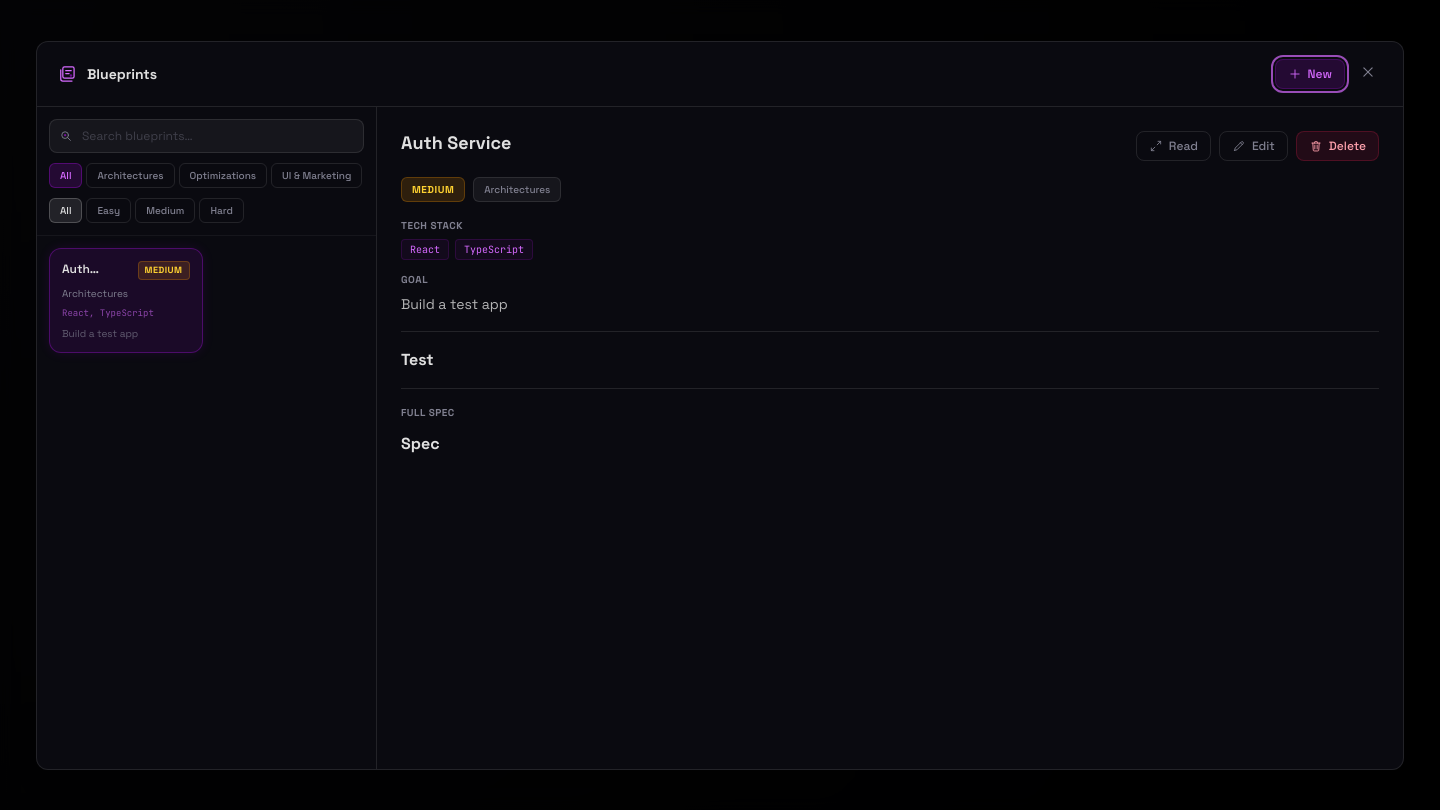
Test case: BlueprintsGallery › deleting a blueprint › keeps the blueprint when the delete is declined
The width and height of the screenshot is (1440, 810).
Click the button "Delete" at coordinates (1337, 146), box [1296,130,1379,160]
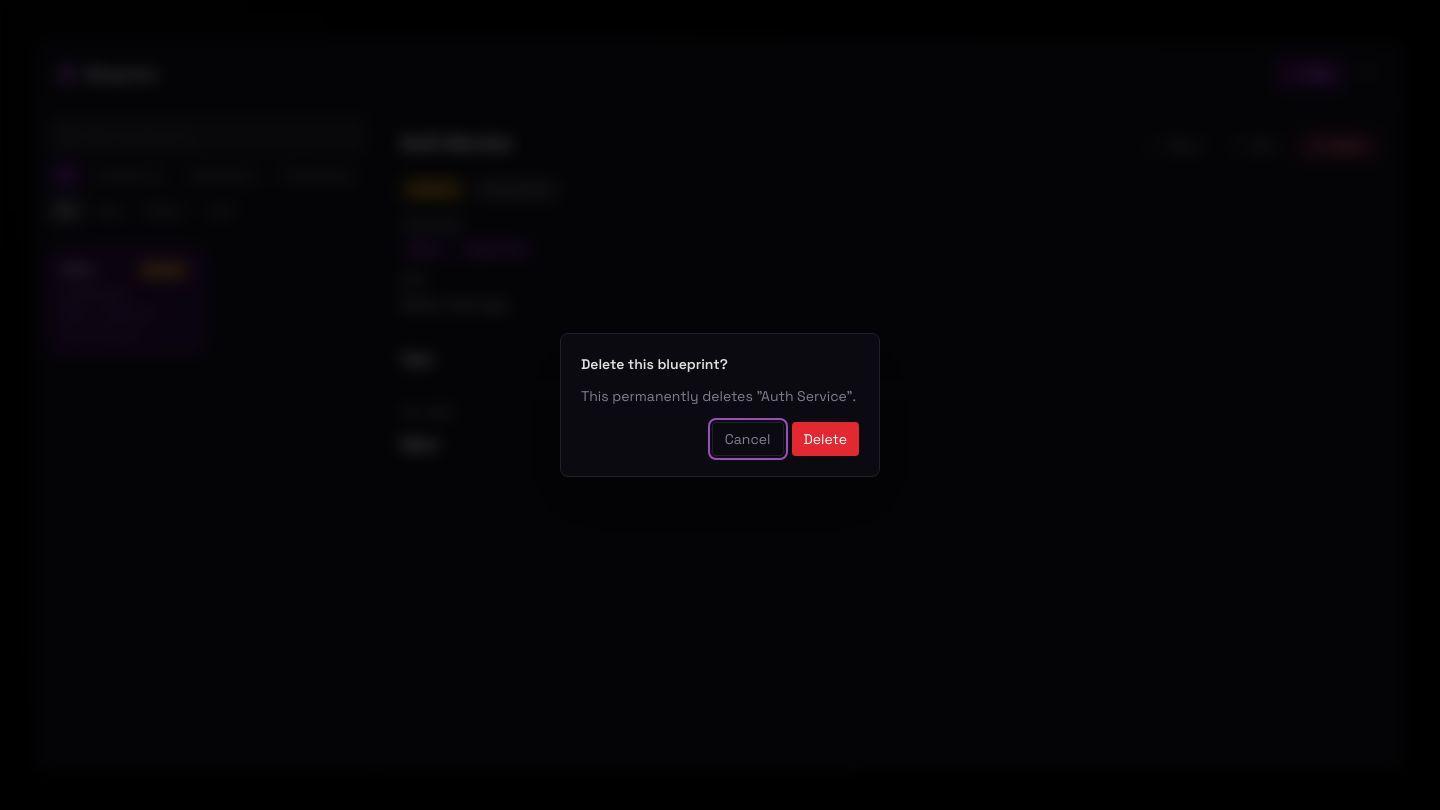
Click the button "Cancel" at coordinates (748, 439), box [712,422,784,456]
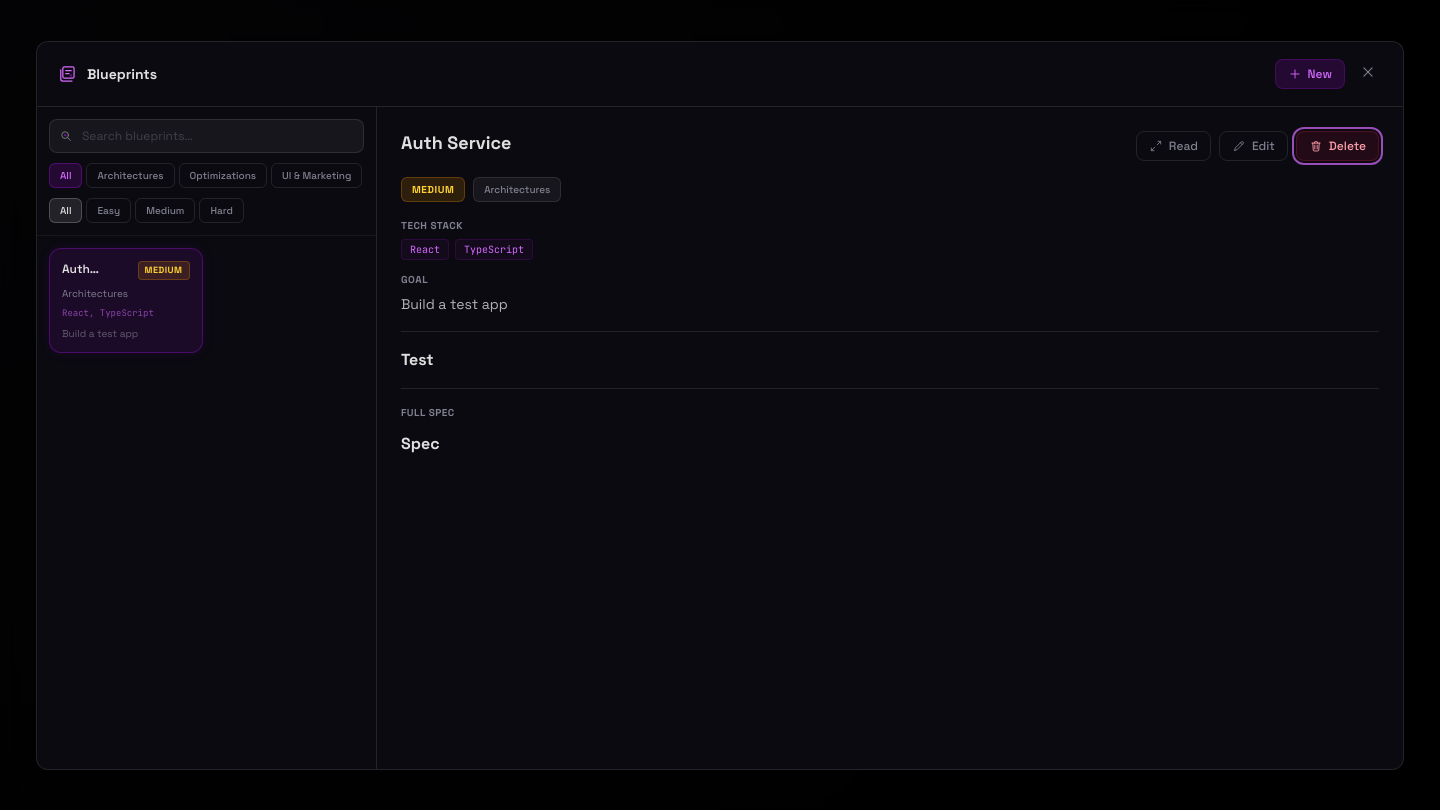
Expected: the heading "Delete this blueprint?" is gone
